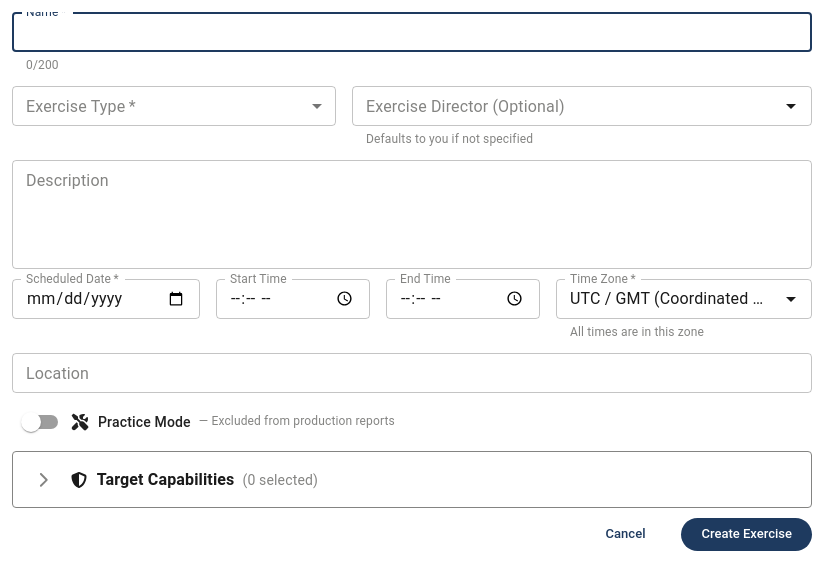
Test: ExerciseForm - Director Selection › Create Mode › allows selecting a director from Admin/Manager users
The width and height of the screenshot is (830, 568).
Click the dropdown labelled "Exercise Director (Optional)".
click(566, 106)  # box [358,92,773,120]
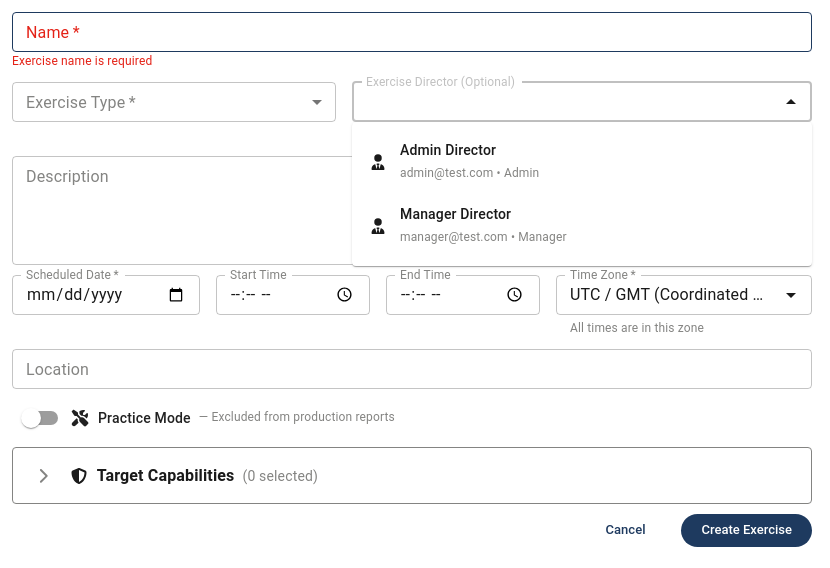
Now the text "Admin Director" is shown, box [400,142,496,158]
Now the text "Manager Director" is shown, box [400,206,511,222]
